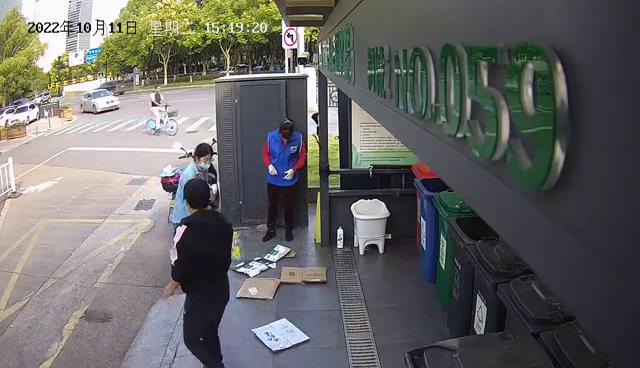person: (162, 178, 234, 368)
worker: (260, 117, 305, 243), (169, 142, 214, 233)
zhizhipin: (250, 316, 311, 353), (232, 244, 296, 278), (235, 276, 281, 301), (280, 264, 329, 285)
